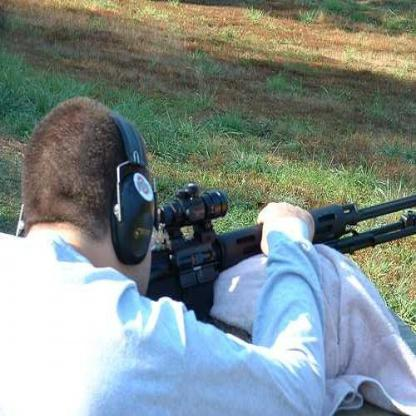rifle: (120, 163, 415, 308)
